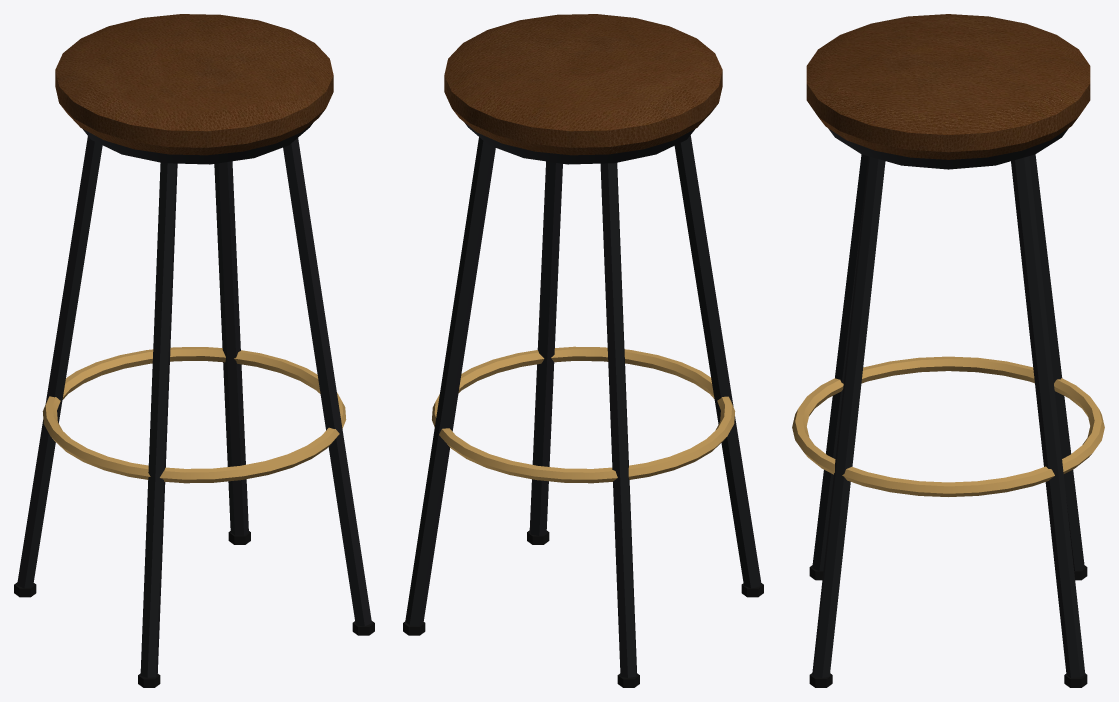
File: leather_black.glb
3 renders of one model, left to right at view 1: azimuth 30°, elevation 25°; view 2: azimuth 150°, elevation 25°; view 3: azimuth 270°, elevation 25°, orthographic. The views are drawn at different scales.
Parts seen in each view (by area): view 1: leather_black; view 2: leather_black; view 3: leather_black.
Boxes of the visible parts, left/top/right/bottom form: leather_black: left=14, top=14, right=374, bottom=687; leather_black: left=403, top=14, right=763, bottom=687; leather_black: left=792, top=14, right=1104, bottom=687.
Size of the model in its own units: 0.3818 by 0.766 by 0.3819.
4 materials, 1 textured.
